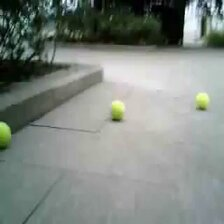tennis: (1, 119, 12, 147), (111, 101, 125, 121), (194, 93, 211, 109)
